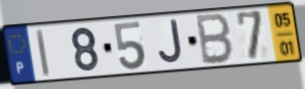5: (113, 19, 148, 71)
7: (234, 10, 266, 63)
8: (69, 25, 101, 74)
B: (195, 12, 235, 67)
I: (34, 27, 52, 78)
J: (156, 18, 185, 67)
